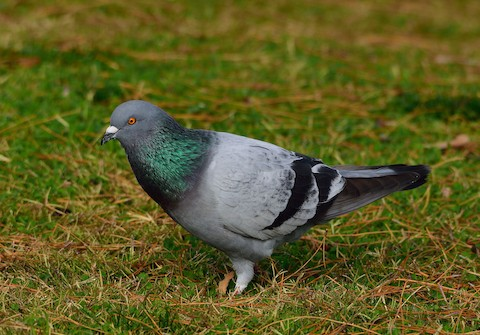pigeon: (99, 97, 433, 298)
